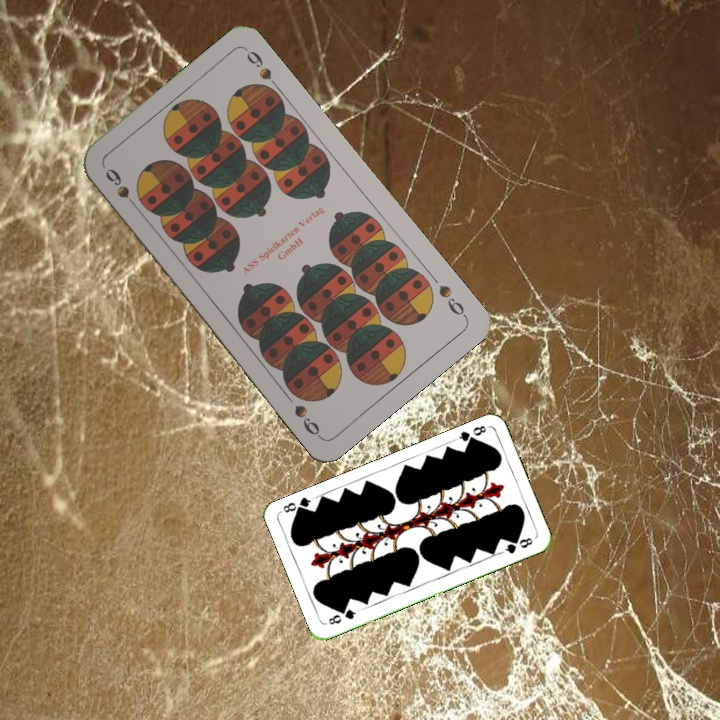G8: (451, 421, 490, 447), (324, 605, 358, 627)
S9: (100, 164, 143, 214), (434, 280, 470, 321)
